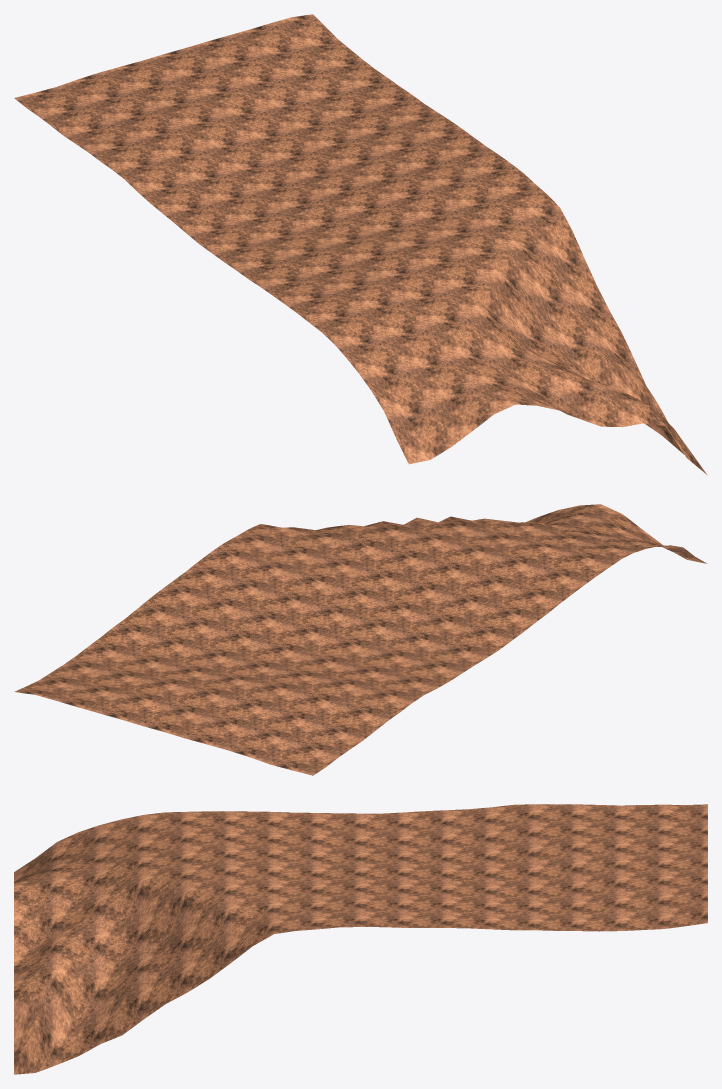
The model's file is terrain_03_23.dae.
The picture shows the model from 3 angles, top to bottom: view 1: azimuth 30°, elevation 25°; view 2: azimuth 150°, elevation 25°; view 3: azimuth 270°, elevation 25°; orthographic projection. The views are drawn at different scales.
Visible parts, largest first — view 1: terrain_03_23-node; view 2: terrain_03_23-node; view 3: terrain_03_23-node.
Part boxes in pixels (x1,y1,x2,y2): terrain_03_23-node: (14,14,706,474); terrain_03_23-node: (14,504,707,775); terrain_03_23-node: (14,804,707,1074).
Bounding box in the file's own units: 56 × 128 × 31.26.
1 material, 1 textured.
